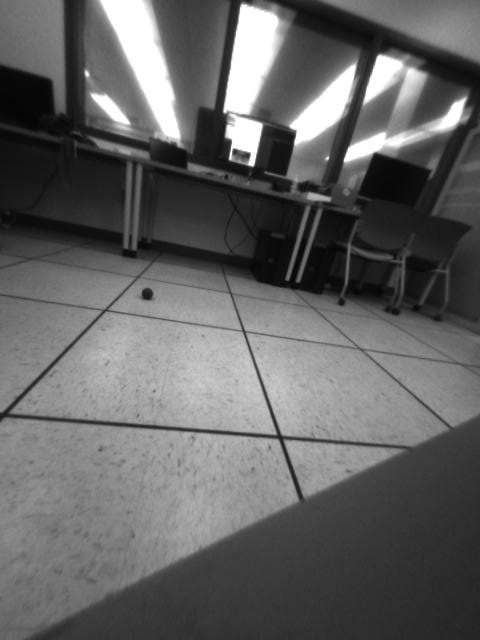dogtoy: (137, 282, 163, 303)
